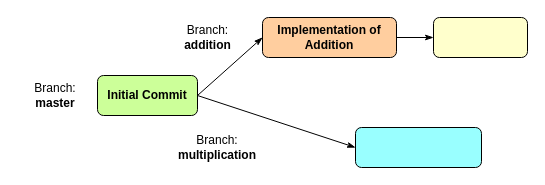
Image size: 545x185. Some labels were removed from this diagram. The centre of each missing label's shape, as x and y in pixels:
Implementation of Multiplication: the point at 418,147
Minor Bugfix: the point at 480,37
